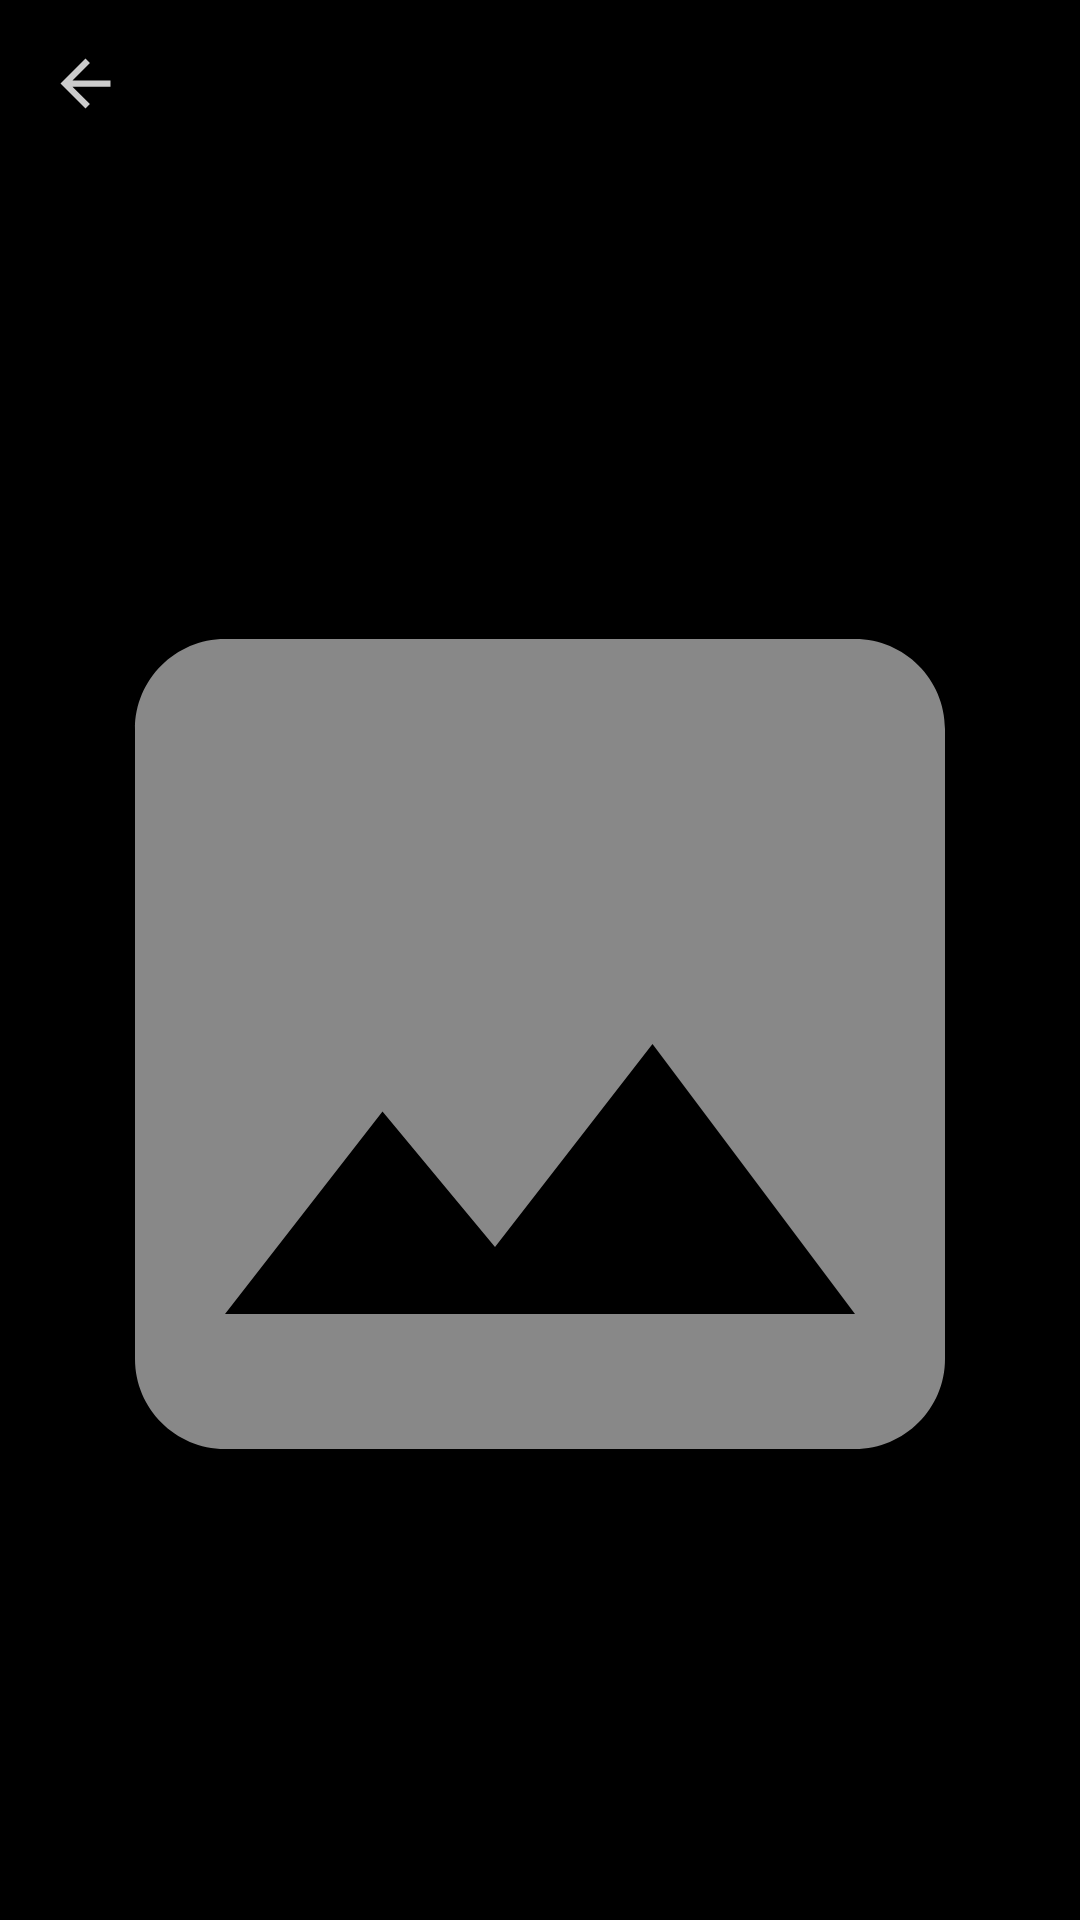

Named icons in this screenshot (1080×1920) and their centers, (x=x, y=y):
arrow back: (x=85, y=83)
